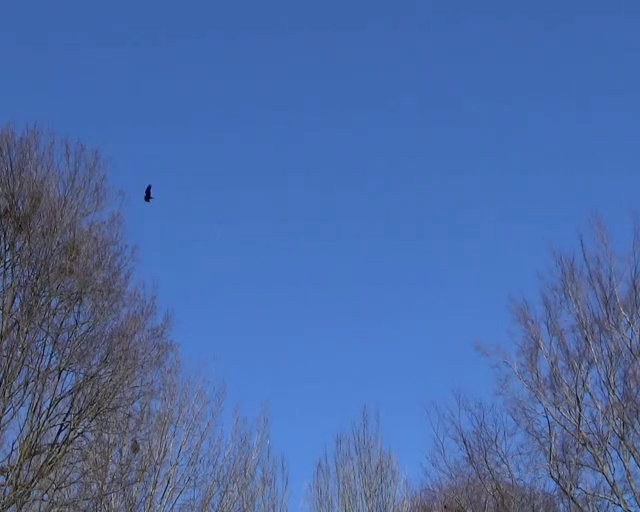BIRD: (144, 184, 154, 202)
